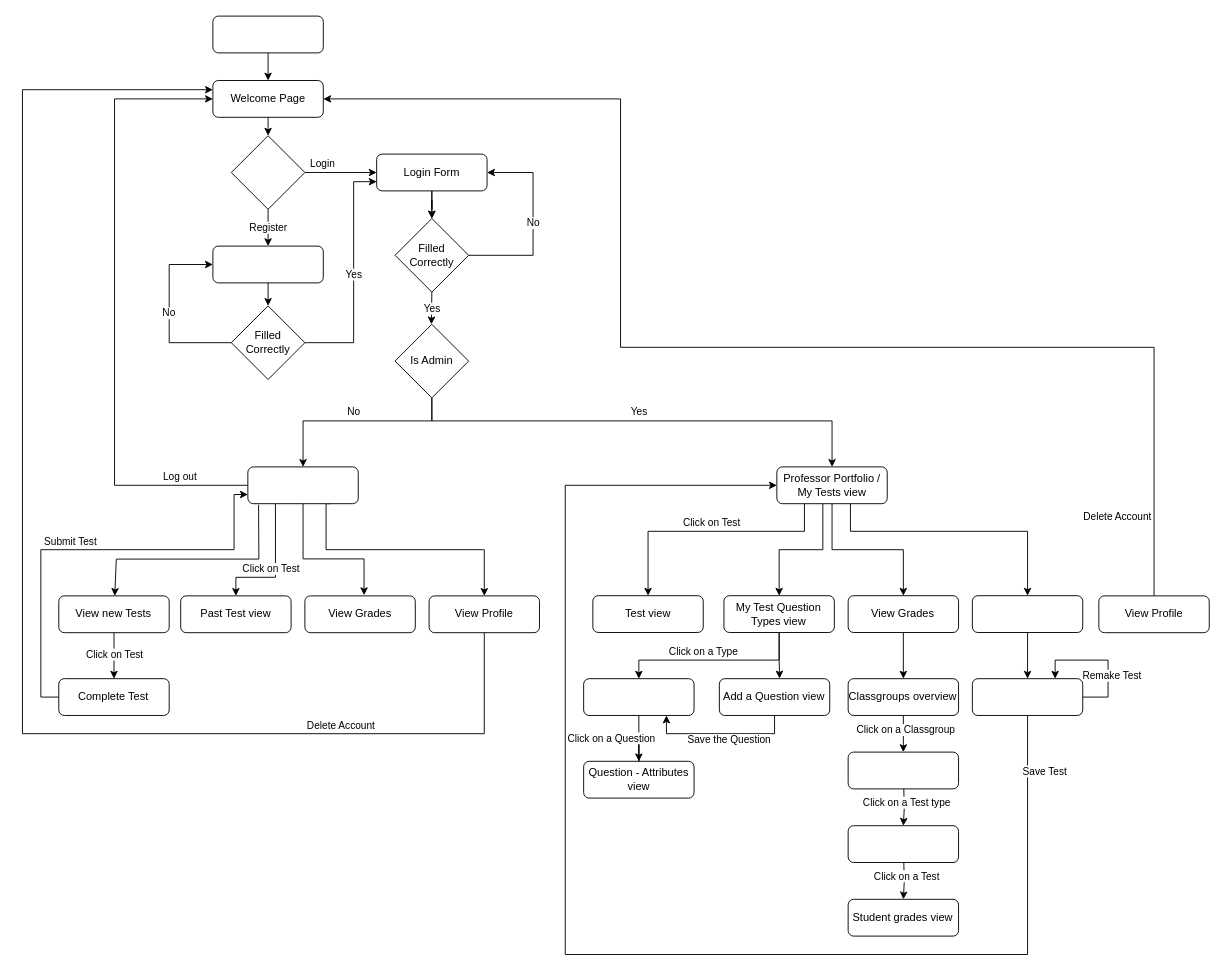
This 1225x978 diagram has some shape labels left out. Here are the shapes that lost their labels. From the top down, the centre of each, then its label:
the point at 267,34: Start
the point at 267,172: Login or Register
the point at 267,264: Register Form
the point at 302,485: Student Portfolio / Test History
the point at 1027,613: Add a Test view
the point at 638,696: Questions of specific Type view
the point at 1027,696: Created Test view
the point at 903,770: Average classgroup score by test type view
the point at 903,843: Average classgroup score by test view
